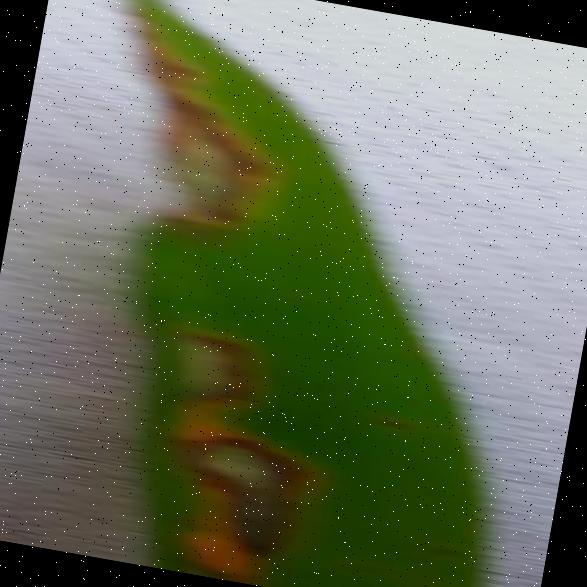Leaf_smut: (145, 416, 316, 562), (156, 279, 285, 427)
